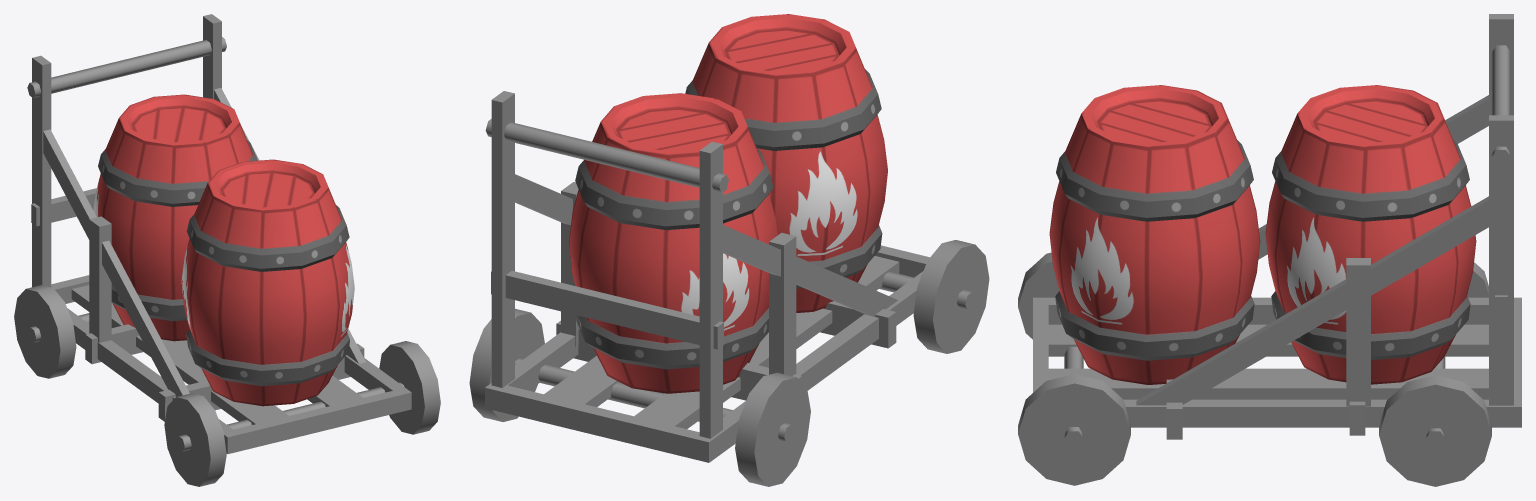
Rendered from prop_Bombcart.fbx.
3 renders of one model, left to right at view 1: azimuth 30°, elevation 25°; view 2: azimuth 150°, elevation 25°; view 3: azimuth 270°, elevation 25°, orthographic. The views are drawn at different scales.
Visible parts, largest first — view 1: catapult_base; view 2: catapult_base; view 3: catapult_base.
Part boxes in pixels (x1,y1,x2,y2): catapult_base: (14, 14, 440, 486); catapult_base: (469, 14, 989, 486); catapult_base: (1018, 14, 1521, 486).
Bounding box in the file's own units: 121 × 136 × 178.
2 materials, 1 textured.
